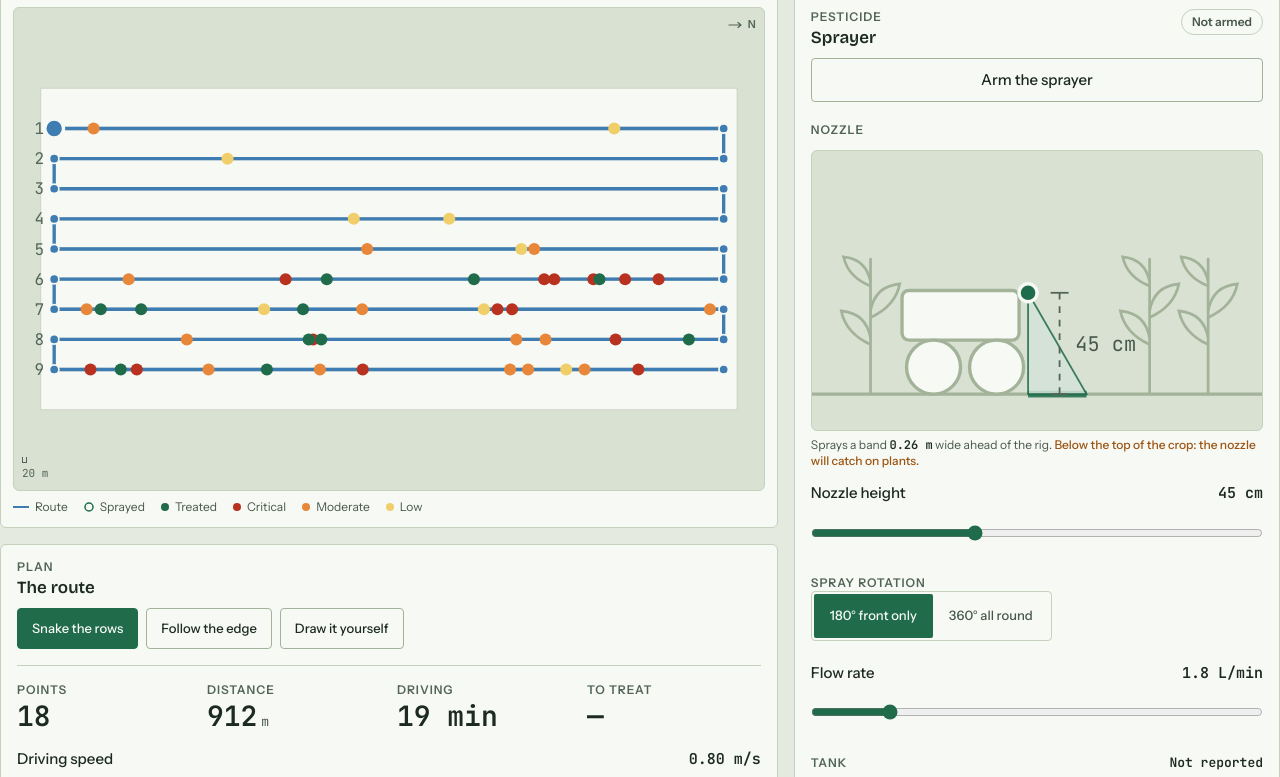
Test: MissionWorkspace › builds a custom route from the keyboard, since tapping the map cannot be typed
Click the button "Draw it yourself".
click(342, 628)  # box [280,608,404,649]
(page scrolled)
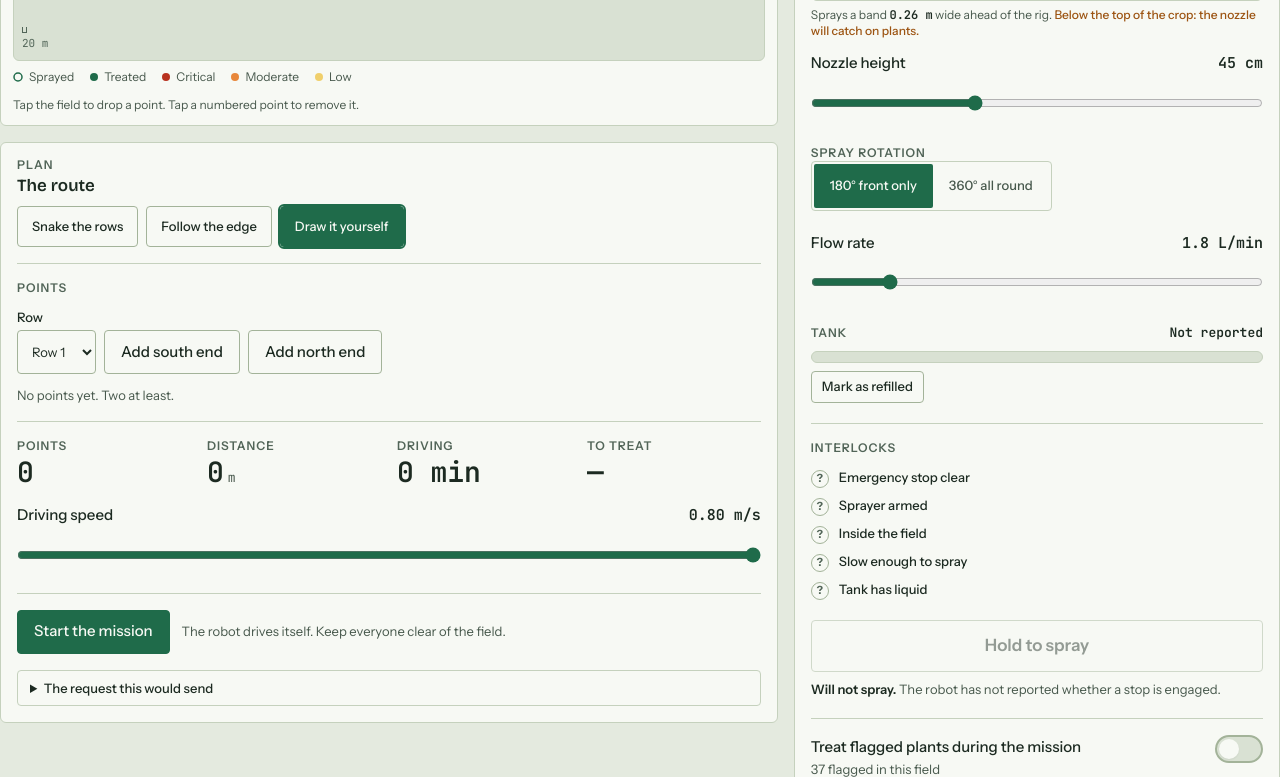
Select "Row 3" in the dropdown labelled "Row" at (56, 352), box [17,330,96,374]
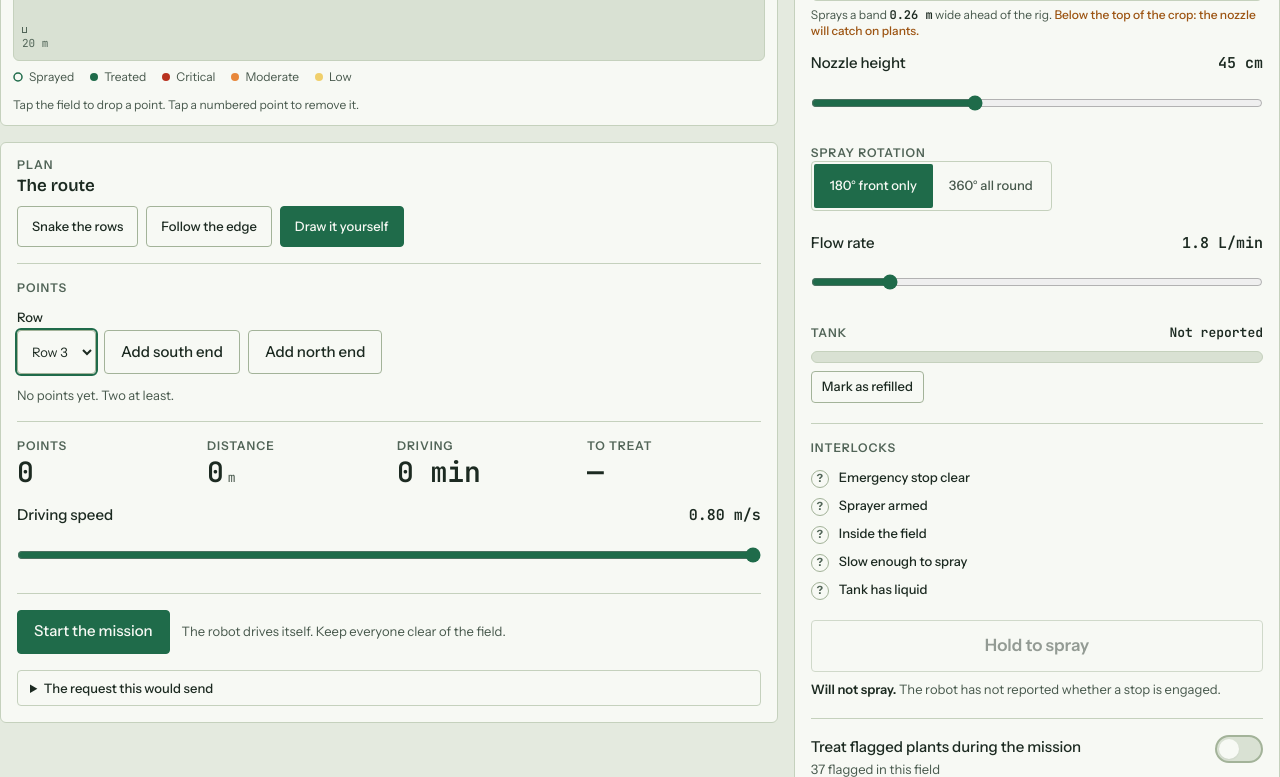
Click the button "Add south end".
click(172, 352)  # box [104,330,240,374]
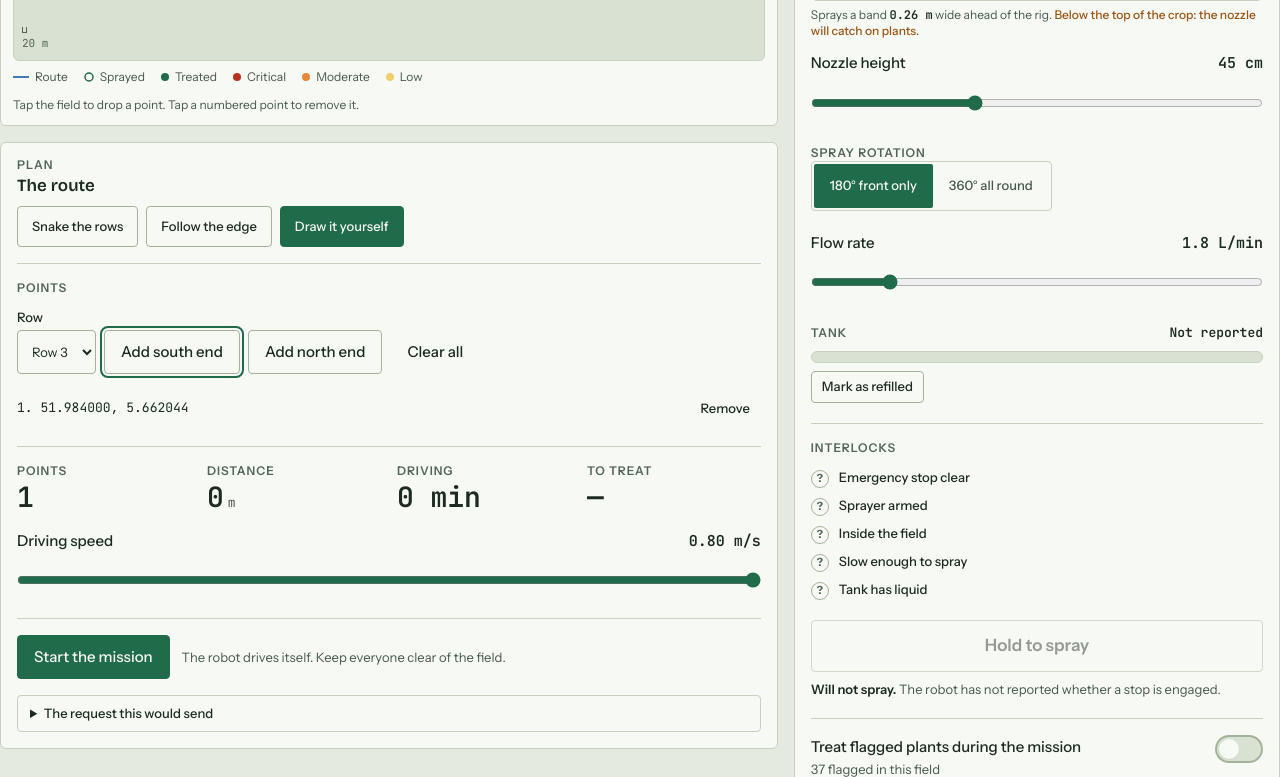
Click the button "Add north end".
click(315, 352)  # box [248,330,382,374]
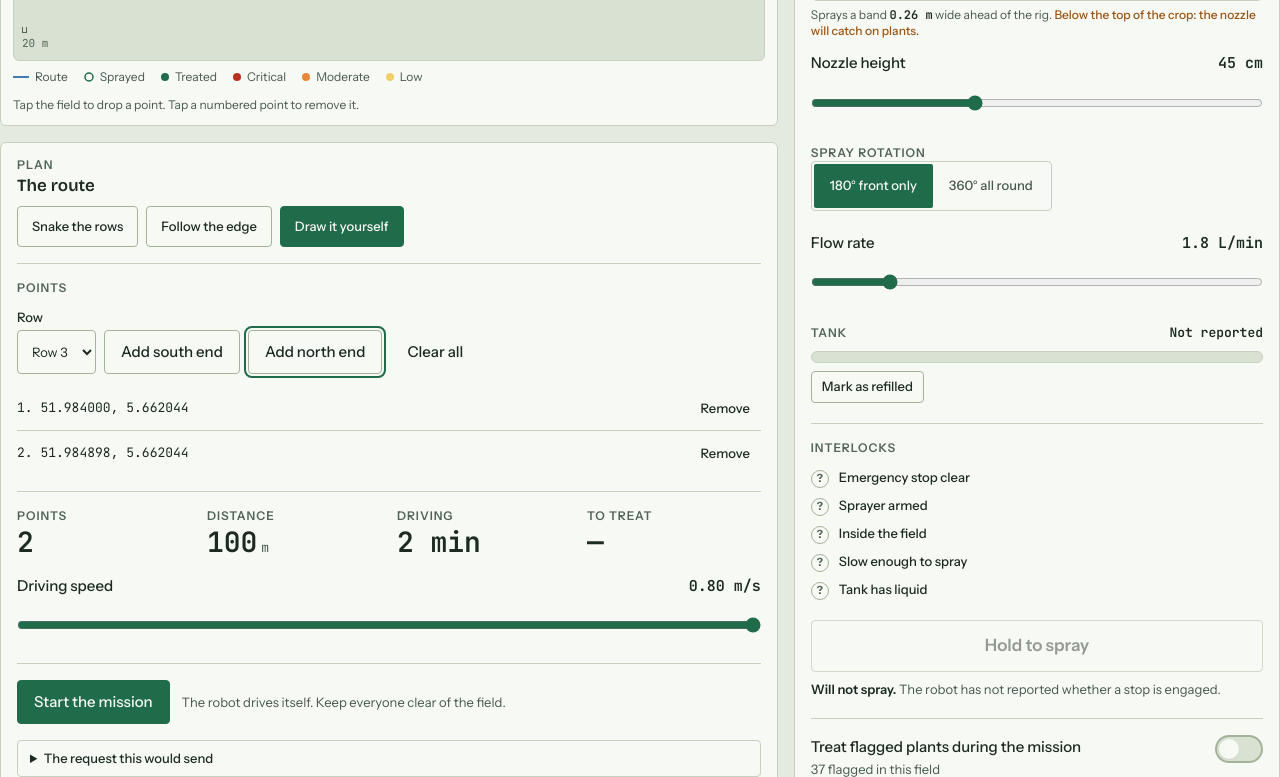
Expected: the text "100" is shown, [207,528,257,556]
